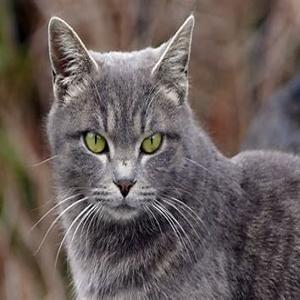cat: (45, 54, 199, 215)
